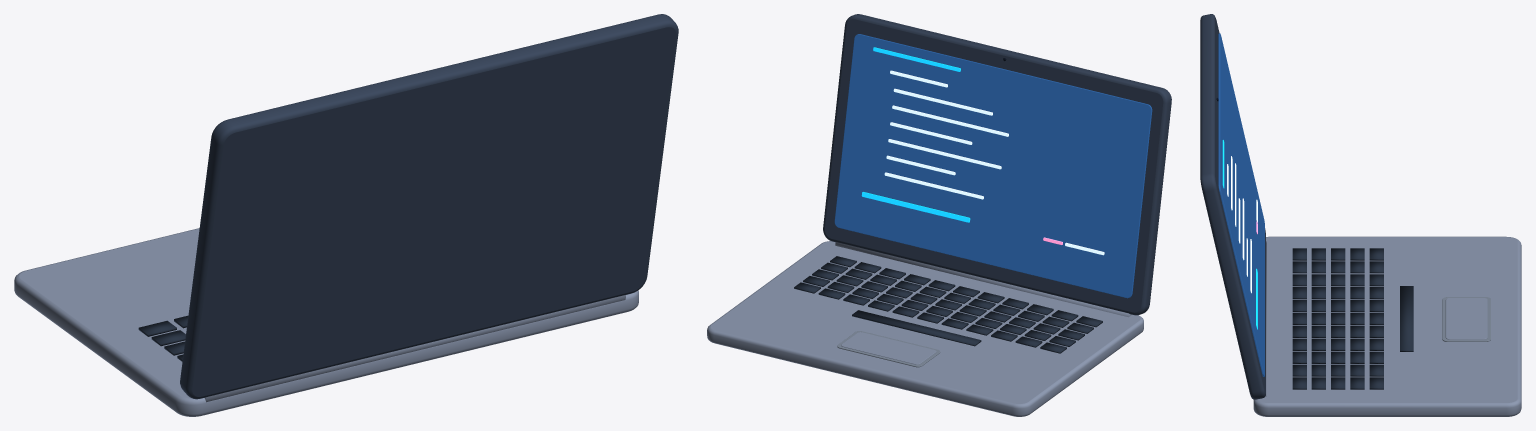
Rendered from 22-nodeworks-laptop-code.glb.
3 renders of one model, left to right at view 1: azimuth 30°, elevation 25°; view 2: azimuth 150°, elevation 25°; view 3: azimuth 270°, elevation 25°, orthographic. The views are drawn at different scales.
Visible parts, largest first — view 1: laptop_screen_frame, laptop_base, laptop_hinge, laptop_keyboard_keys; view 2: laptop_code_display, laptop_base, laptop_screen_frame, laptop_keyboard_keys, laptop_trackpad_face, laptop_hinge, code_bottom_accent, laptop_trackpad_border, code_line_3, code_line_5; view 3: laptop_base, laptop_keyboard_keys, laptop_code_display, laptop_screen_frame, laptop_trackpad_face, laptop_trackpad_border.
Part boxes in pixels (x1,y1,x2,y2): laptop_screen_frame: (180,14,678,399); laptop_base: (14,228,638,416); laptop_hinge: (204,295,625,402); laptop_keyboard_keys: (138,315,188,361); laptop_code_display: (834,34,1152,298); laptop_base: (707,241,1143,416); laptop_screen_frame: (823,14,1171,315); laptop_keyboard_keys: (794,256,1102,353); laptop_trackpad_face: (841,332,936,364); laptop_hinge: (835,242,1131,317); code_bottom_accent: (861,192,970,222); laptop_trackpad_border: (837,331,940,367); code_line_3: (892,105,1008,136); code_line_5: (888,139,1001,169); laptop_base: (1253,236,1521,416); laptop_keyboard_keys: (1292,248,1413,389); laptop_code_display: (1218,33,1264,376); laptop_screen_frame: (1200,14,1265,399); laptop_trackpad_face: (1445,298,1487,339); laptop_trackpad_border: (1442,297,1490,341).
Bounding box in the file's own units: 0.3403 × 0.2246 × 0.2731.
